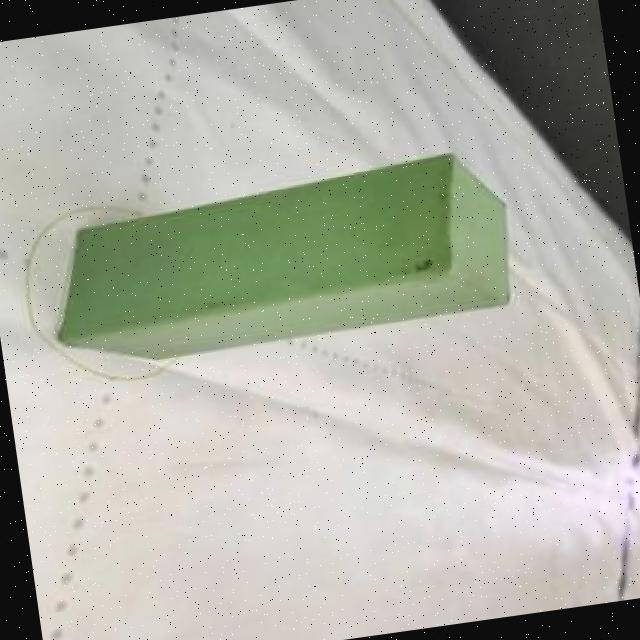greenbox: (39, 144, 524, 378)
